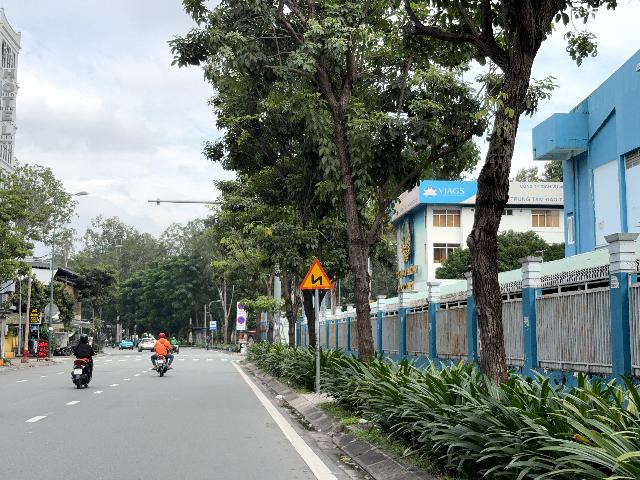nhieu-cho-ngoat-nguy-hiem-lien-tiep: (299, 258, 333, 290)
